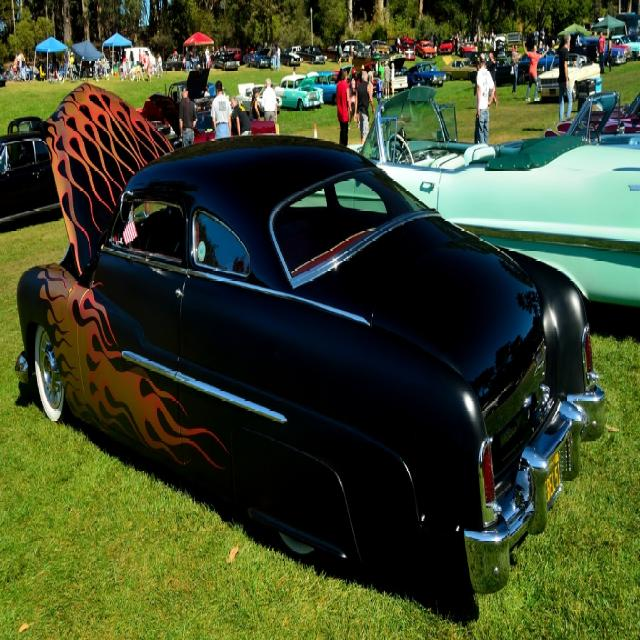car: (15, 105, 593, 579)
